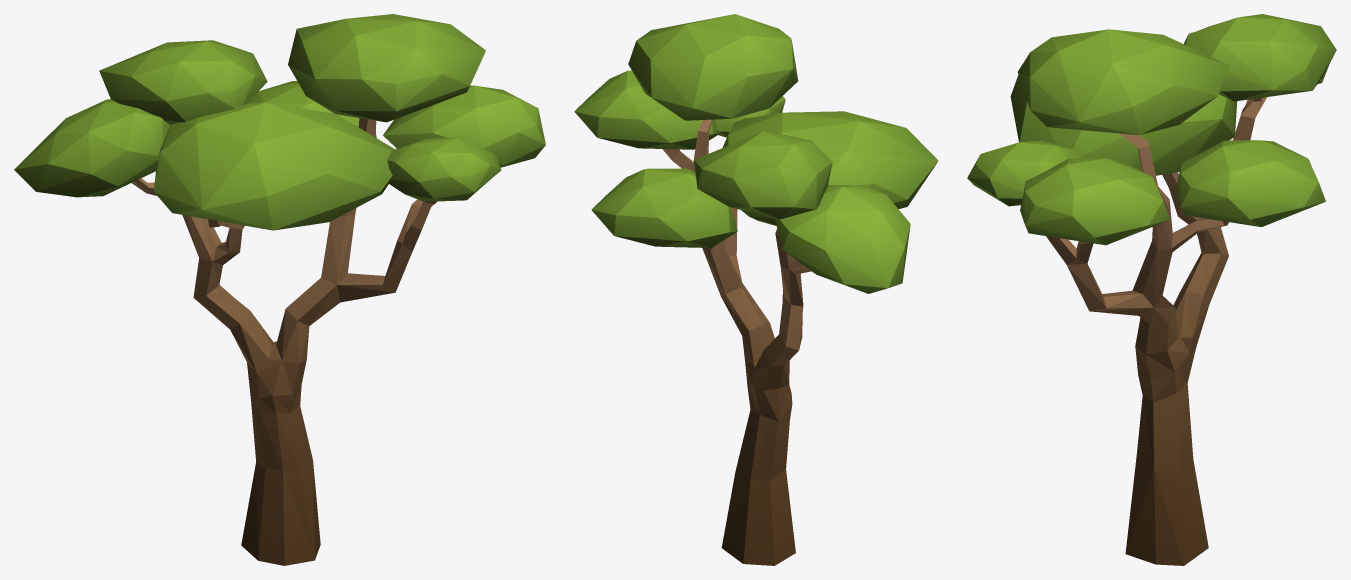
Rendered from ZLP_Plant_F_1.FBX.
3 renders of one model, left to right at view 1: azimuth 30°, elevation 25°; view 2: azimuth 150°, elevation 25°; view 3: azimuth 270°, elevation 25°, orthographic. The views are drawn at different scales.
Parts seen in each view (by area): view 1: ZLP_Plant_F_1; view 2: ZLP_Plant_F_1; view 3: ZLP_Plant_F_1.
Part boxes in pixels (<box>): ZLP_Plant_F_1: <box>14,14,545,565</box>; ZLP_Plant_F_1: <box>574,14,938,565</box>; ZLP_Plant_F_1: <box>967,14,1336,565</box>.
Size of the model in its own units: 311 by 366 by 226.
